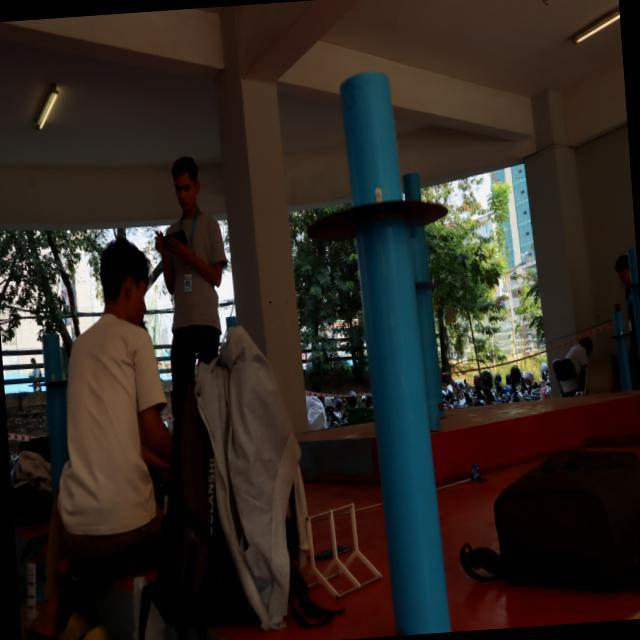pole: (296, 63, 454, 334), (603, 300, 634, 360), (616, 250, 639, 304)
